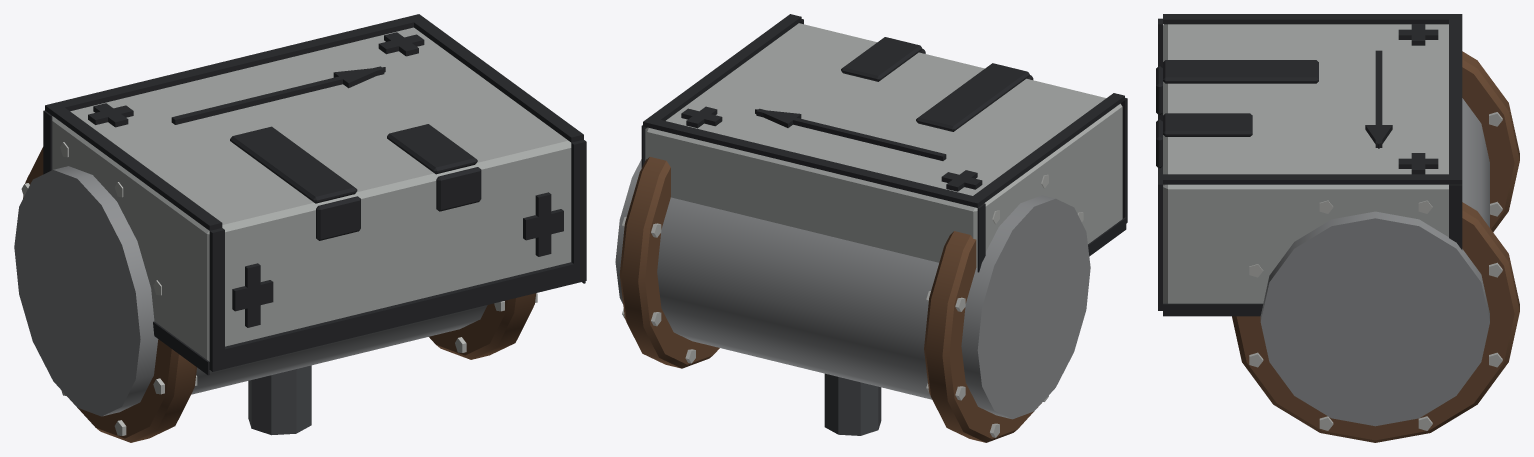
File: overflow-valve-east.glb
3 views of the same model, side by side, from view 1: azimuth 30°, elevation 25°; view 2: azimuth 150°, elevation 25°; view 3: azimuth 270°, elevation 25° (orthographic). The views are drawn at different scales.
Parts seen in each view (by area): view 1: body; view 2: body; view 3: body.
Part boxes in pixels (x1,y1,x2,y2): body: [14, 14, 586, 442]; body: [615, 14, 1127, 442]; body: [1156, 14, 1519, 442].
Size of the model in its own units: 1 by 0.776 by 0.856.
